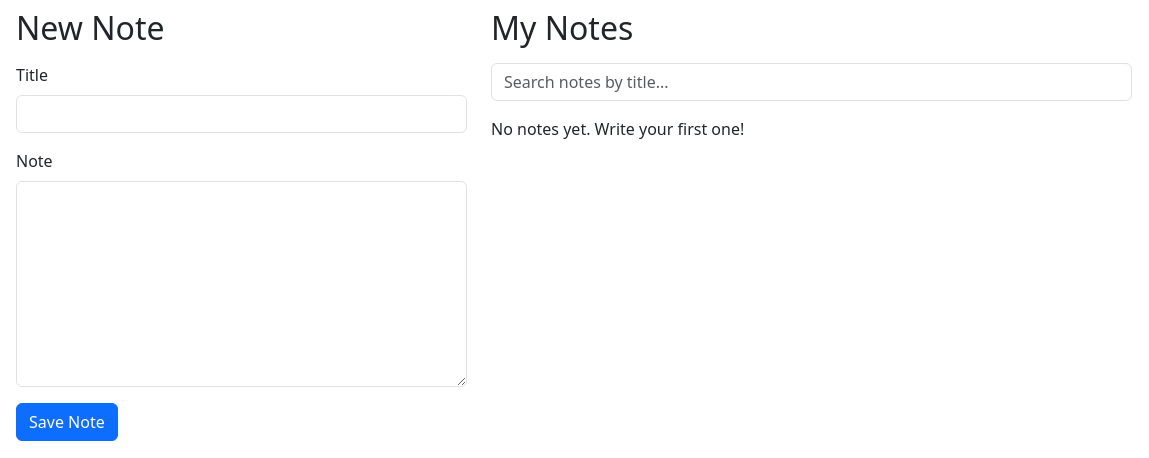
it: adds a note through the API
In the field labelled "Title": (242, 114) [16,95,467,133], type "Subnetting"
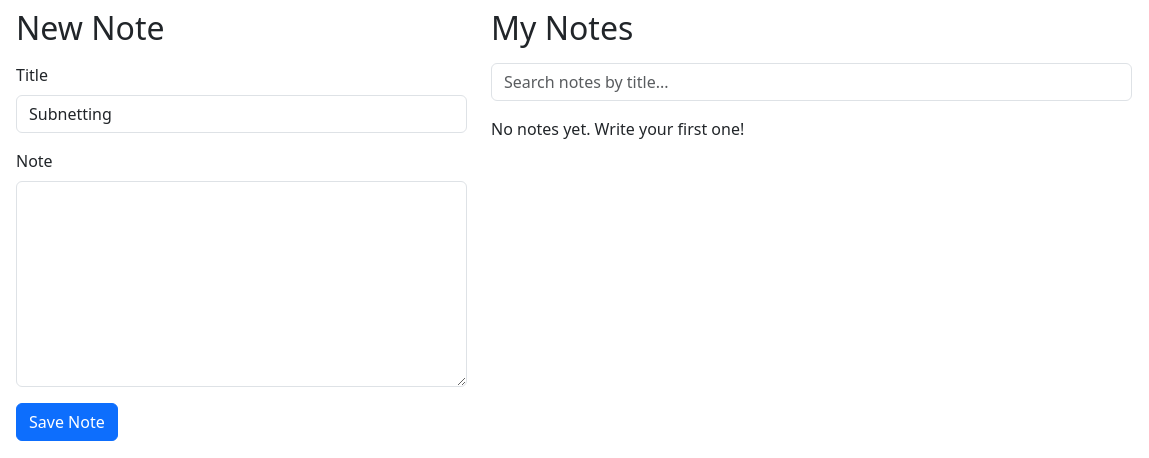
In the text box labelled "Note": (242, 284) [16,181,467,387], type "A /24 network has 256 addresses"
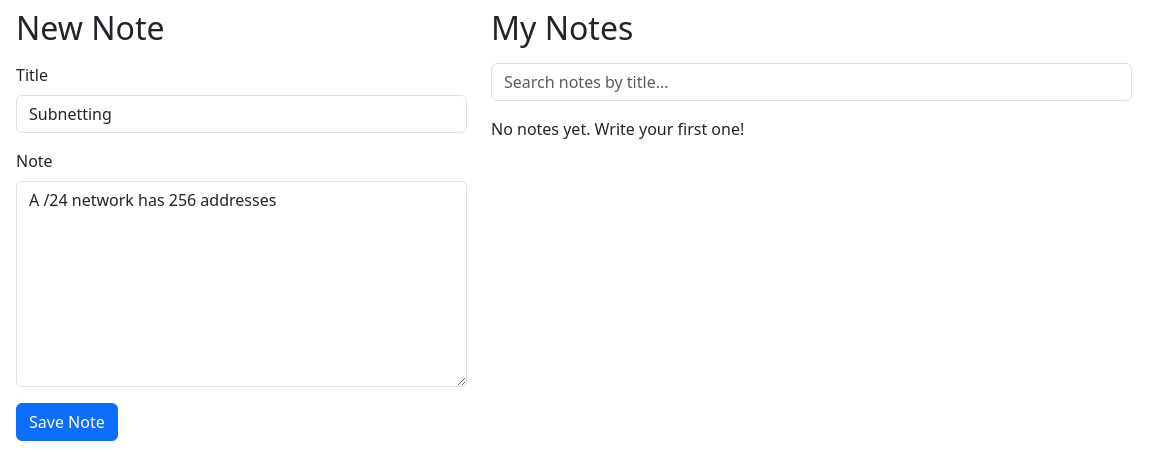
Click the button "Save Note": (67, 422) [16,403,118,441]
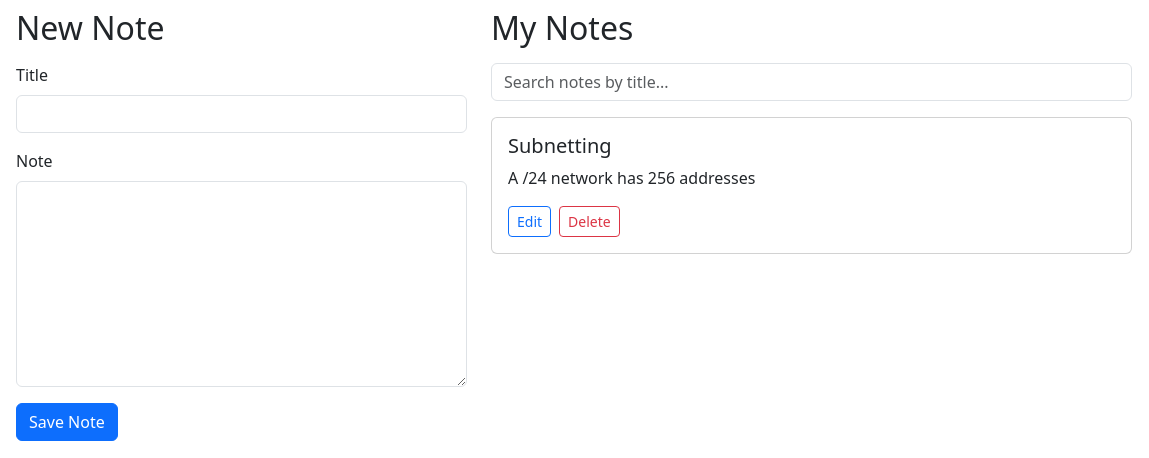
Expected: the heading "Subnetting" is shown, [508,132,612,159]
